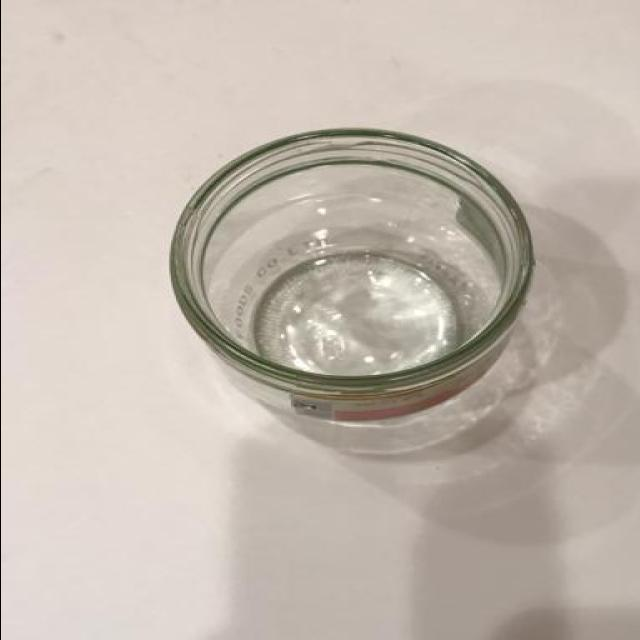glass: (164, 126, 536, 422)
